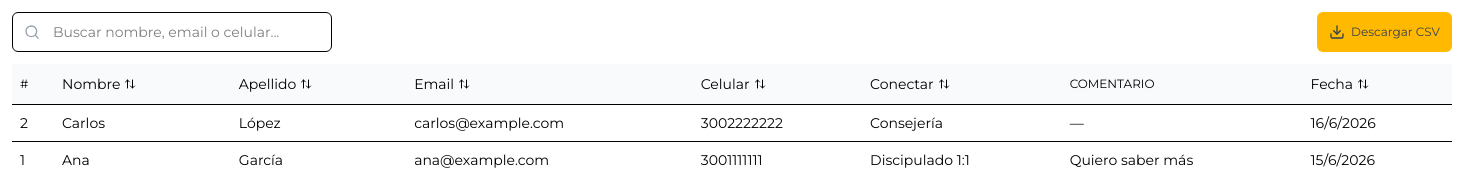
Test: ConsolidationTable › filters by email
Step 1. Type "carlos@example.com" into the field labelled "Buscar nombre, email o celular..." → (172, 32), box top-left (12, 12), bottom-right (332, 52)
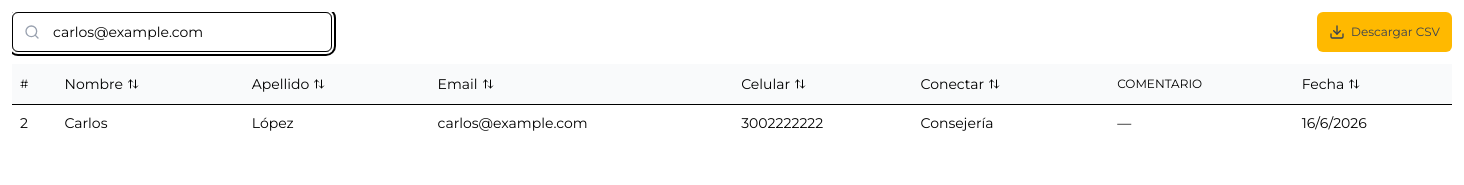
Expected: the number of rows is 2, top-left (12, 64), bottom-right (1452, 104); top-left (12, 104), bottom-right (1452, 140)
